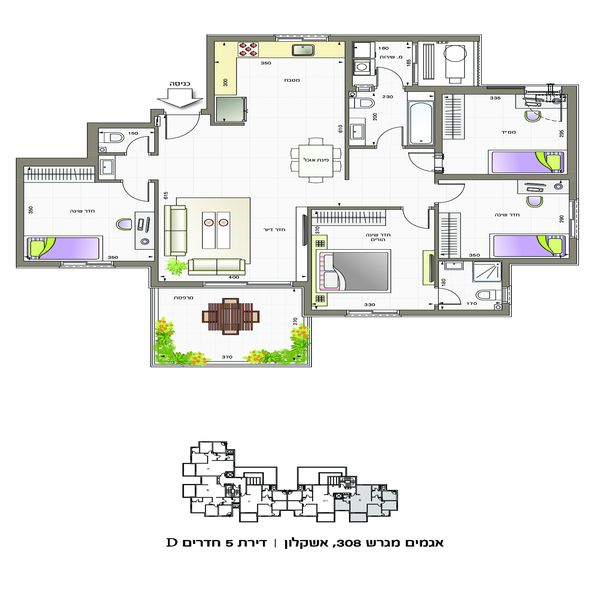door: (521, 81, 563, 127), (161, 106, 201, 140), (402, 205, 436, 236), (437, 179, 470, 208), (374, 64, 407, 90), (375, 126, 410, 150), (406, 151, 440, 175), (114, 185, 150, 206), (432, 283, 462, 305), (126, 134, 152, 159)
room: (203, 30, 356, 182), (425, 174, 583, 320), (151, 180, 322, 293), (9, 151, 163, 269), (428, 79, 583, 185), (307, 201, 440, 316)
wall: (331, 34, 479, 46), (343, 38, 356, 174), (436, 172, 575, 184), (565, 84, 579, 199), (10, 165, 24, 266), (441, 255, 576, 265), (404, 84, 526, 94), (397, 308, 513, 318), (306, 204, 316, 317), (314, 202, 401, 214), (17, 156, 97, 169), (205, 35, 217, 117), (432, 91, 447, 154), (210, 33, 281, 44), (431, 202, 440, 287), (94, 120, 154, 130), (13, 259, 62, 271), (151, 184, 158, 256), (86, 120, 101, 153), (115, 258, 155, 270), (148, 281, 204, 289), (96, 152, 127, 160), (95, 177, 123, 184)
window: (203, 274, 293, 292), (281, 27, 329, 47), (57, 256, 111, 272), (348, 305, 398, 321), (569, 199, 578, 243)
